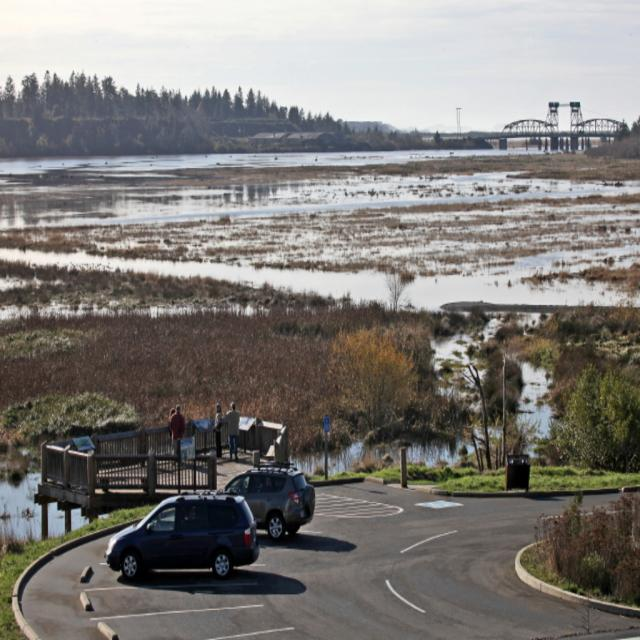car: (98, 495, 258, 593)
